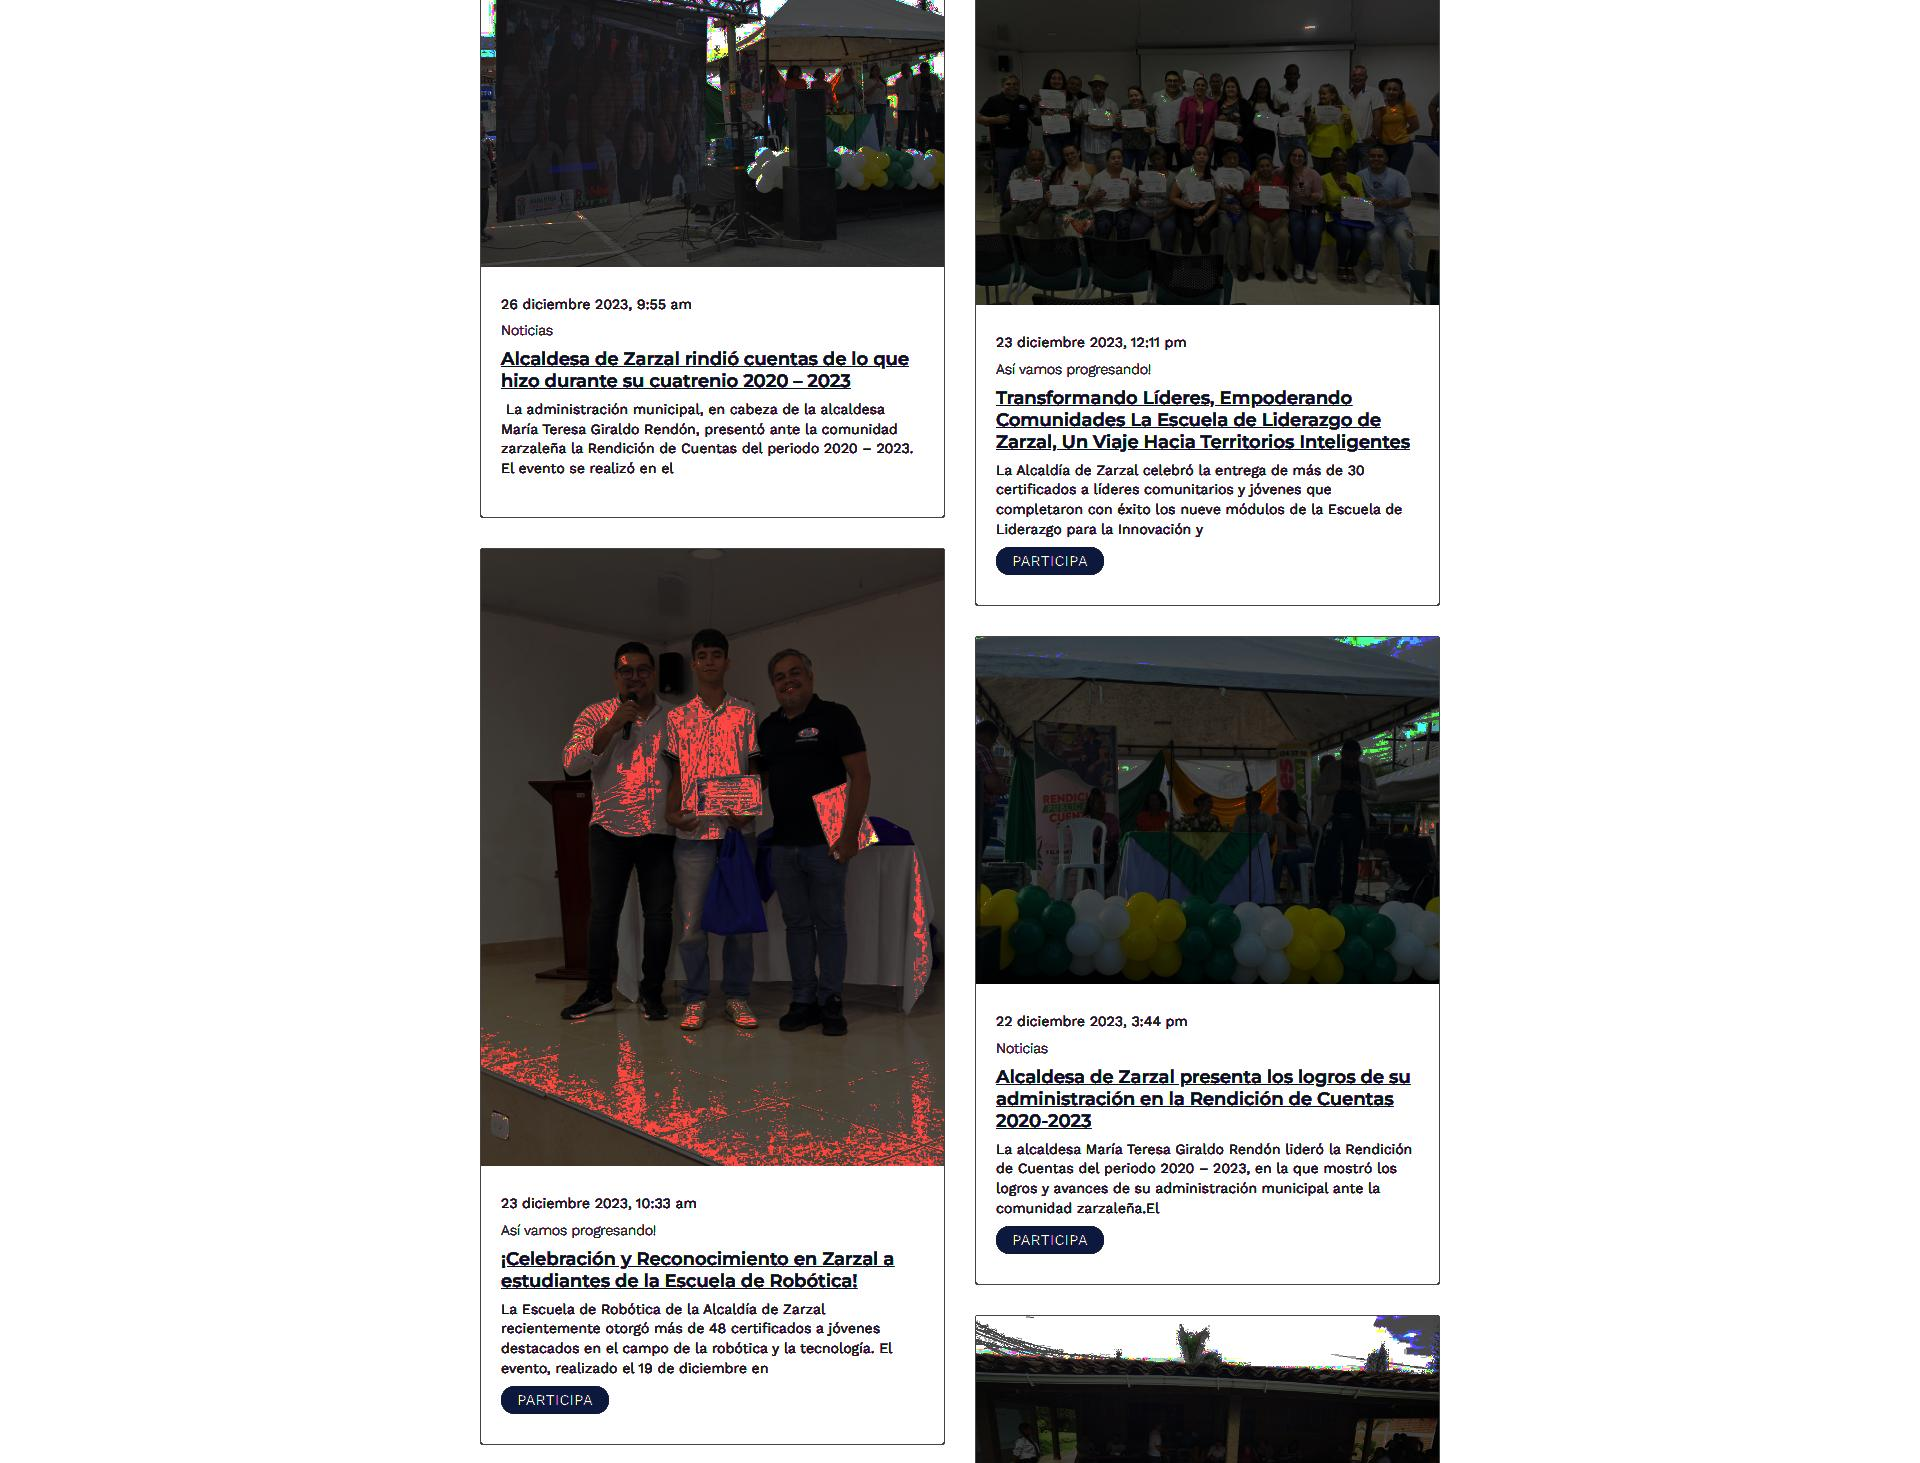btn participa: (1010, 551, 1093, 572), (1009, 1232, 1090, 1253), (514, 1391, 594, 1408)
